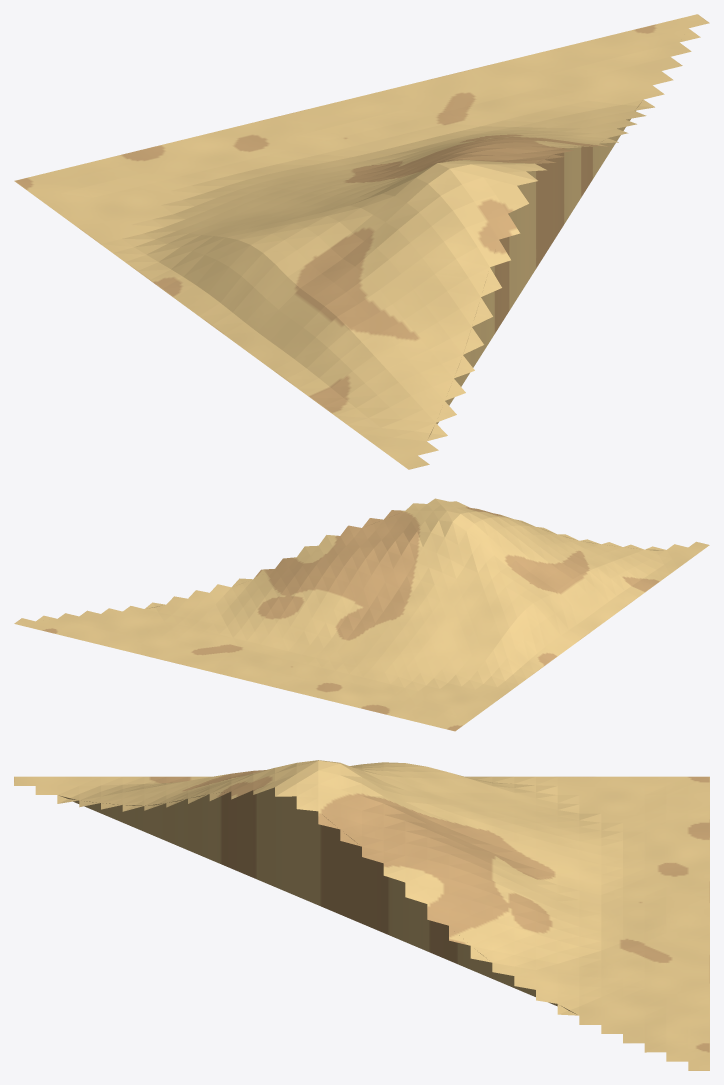
File: Desert_Mountains_02_SW.obj
3 views of the same model, one above another, from view 1: azimuth 30°, elevation 25°; view 2: azimuth 150°, elevation 25°; view 3: azimuth 270°, elevation 25° (orthographic). The views are drawn at different scales.
Bounding box in the file's own units: 10 × 1.71 × 10.
1 material, 1 textured.
